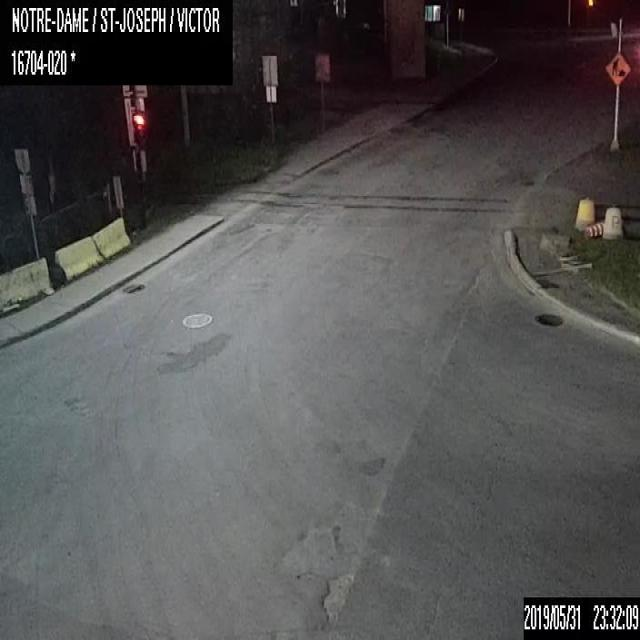construction: (605, 51, 630, 85), (586, 221, 602, 237)
